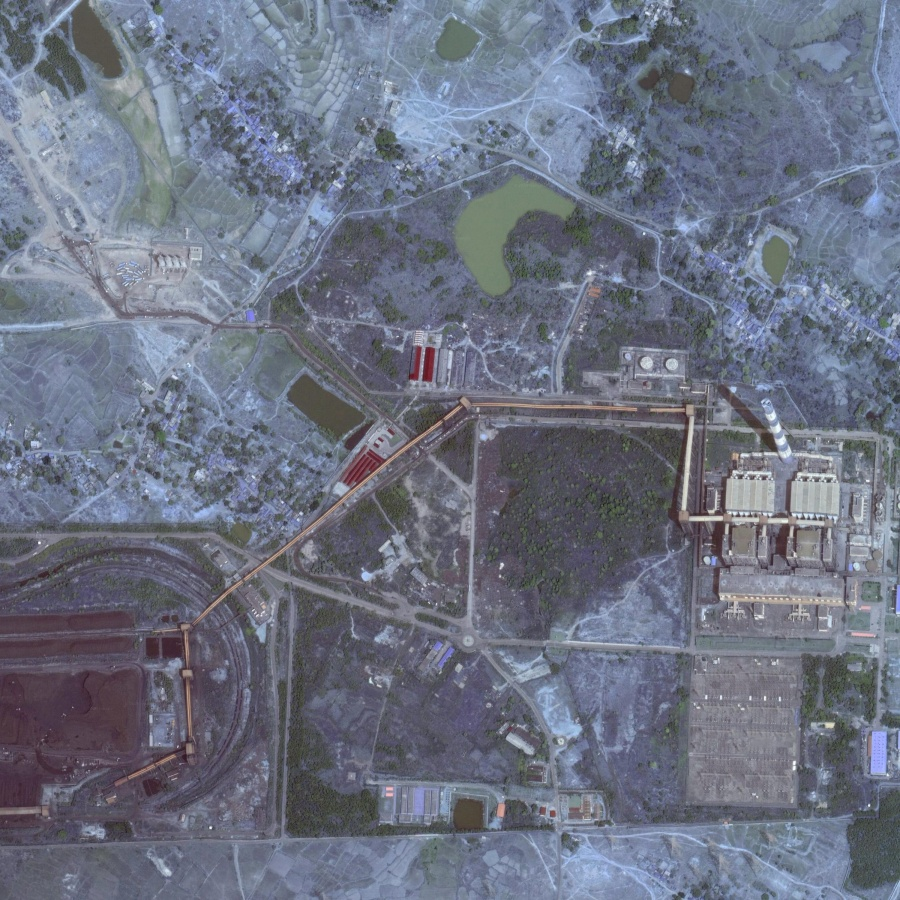PowerPlant: (692, 359, 846, 492)
